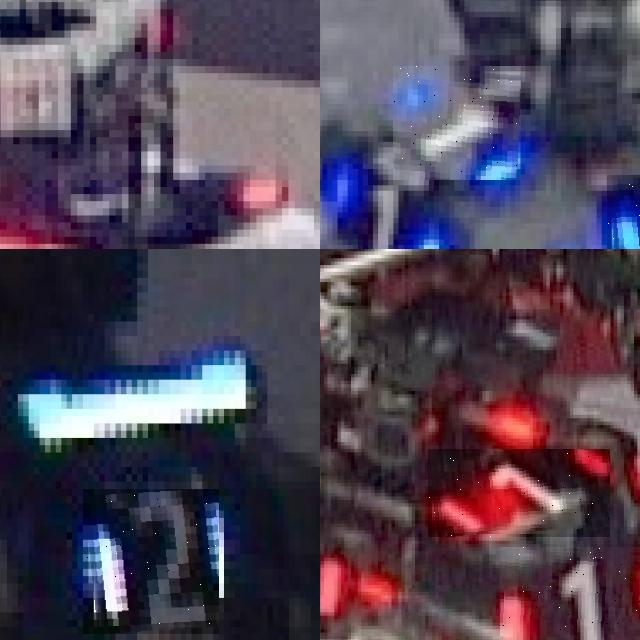B1: (393, 66, 521, 180), (327, 163, 444, 249)
B2: (83, 489, 219, 634)
R1: (428, 449, 610, 537), (499, 547, 640, 640)
